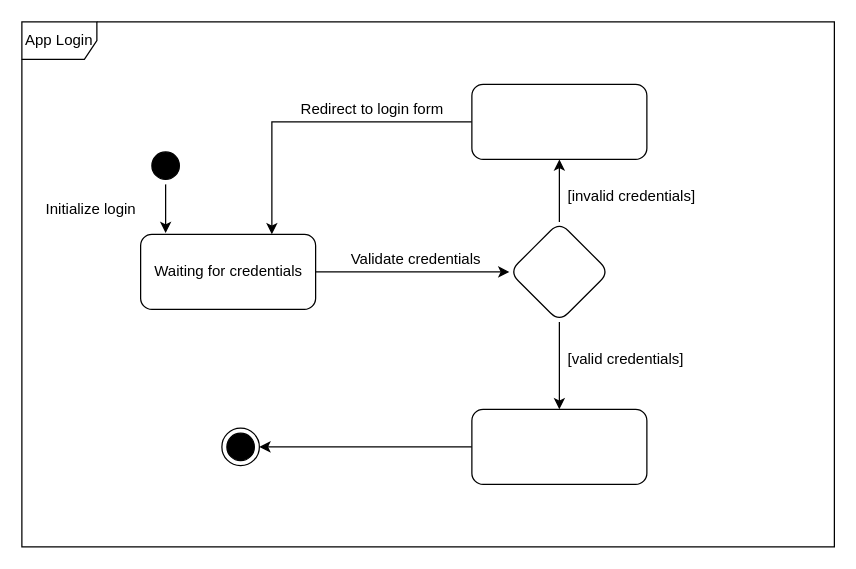
Some shapes in this 856 by 569 pixel diagram are drawn without their labels. The shapes that lost their labels are listed below. From the top down, each one's centre as x and y in pixels, then its label:
At pixel 559 121: "Login failed".
At pixel 559 446: "Login succeeded".
